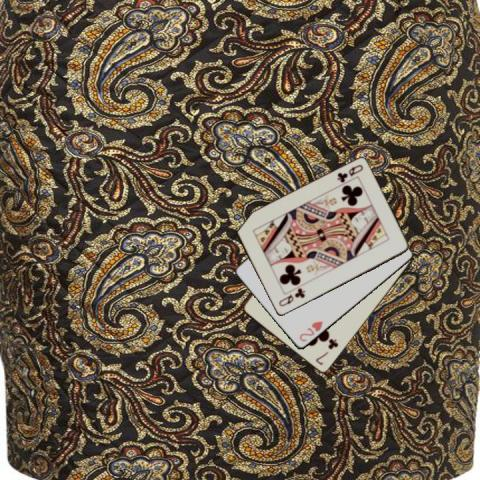2h: (296, 318, 324, 343)
7c: (313, 336, 340, 366)
Qc: (275, 285, 307, 308), (334, 162, 365, 184)
